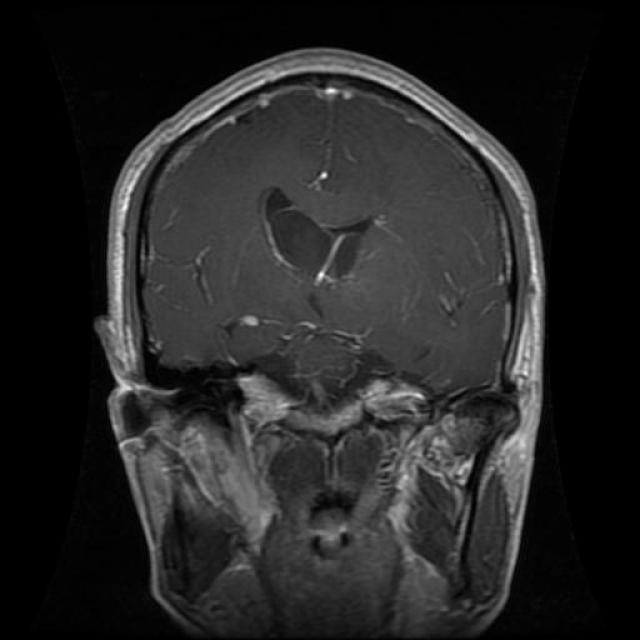glioma: (256, 179, 384, 299)
